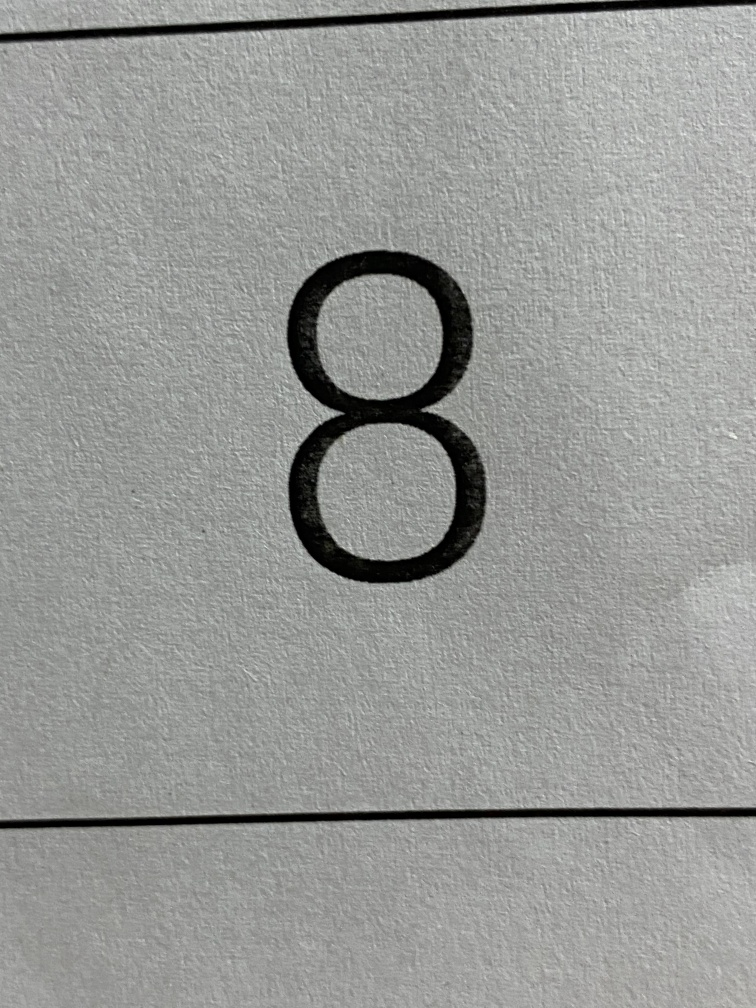eight: (207, 194, 562, 639)
